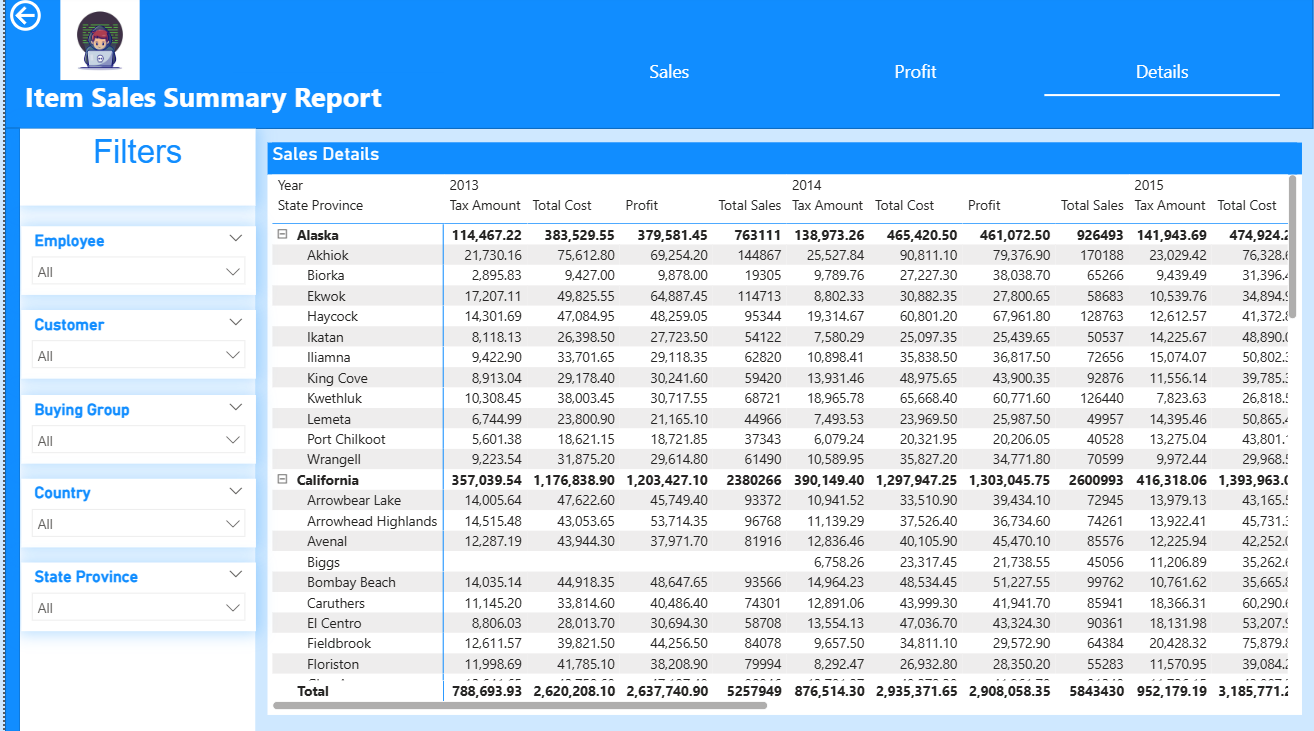

This screenshot's page, from the dashboard's own definition file:
{"tool":"powerbi","page":{"name":"Details","canvas":[1280,720],"ordinal":2},"visuals":[{"type":"shape","box":[0,0,1280,131],"z":0},{"type":"shape","box":[0,129.3,15.1,591.3],"z":1000},{"type":"shape","box":[15.1,131,230.1,589.6],"z":2000},{"type":"textbox","title":"dsadsad","box":[15.1,131,230.1,75.6],"z":3000},{"type":"textbox","box":[15.1,75.6,414.9,53.8],"z":4000},{"type":"pivotTable","title":"Sales Details","fields":{"Values":["Sum(FactSale.Tax Amount)","FactSale.Cost","Sum(FactSale.Profit)","Sum(FactSale.Total Excluding Tax)"],"Columns":["DimDate.Date.Variation.Date Hierarchy.Year","DimDate.Date.Variation.Date Hierarchy.Quarter","DimDate.Date.Variation.Date Hierarchy.Month","DimDate.Date.Variation.Date Hierarchy.Day"],"Rows":["DimCity.State Province","DimCity.City"]},"box":[256.3,144,1012.3,560.2],"z":6000},{"type":"slicer","fields":{"Values":["DimEmployee.Employee"]},"box":[15.5,226,229.4,67.3],"z":7000},{"type":"slicer","fields":{"Values":["DimCustomer.Customer"]},"box":[15.5,308.4,229.4,67.3],"z":8000},{"type":"slicer","fields":{"Values":["DimCustomer.Buying Group"]},"box":[15.5,390.7,229.4,67.3],"z":9000},{"type":"slicer","fields":{"Values":["DimCity.Country"]},"box":[15.5,473.1,229.4,67.3],"z":10000},{"type":"slicer","fields":{"Values":["DimCity.State Province"]},"box":[15.5,555.5,229.4,67.3],"z":11000},{"type":"actionButton","box":[0,0,100,40],"z":12000},{"type":"pageNavigator","box":[534.2,49,714.2,50.4],"z":13000},{"type":"image","box":[29.3,0,127.2,88],"z":13001}]}

Visuals, with their boxes on the page's 1280x720 design canvas (x1, y1, x2, y2). These are canvas units, not pixel positions in the 1314x731 screenshot, which may show the page scaled, cropped or inside an application window:
shape: left=0, top=0, right=1280, bottom=131
shape: left=0, top=129, right=15, bottom=721
shape: left=15, top=131, right=245, bottom=721
"dsadsad" textbox: left=15, top=131, right=245, bottom=207
textbox: left=15, top=76, right=430, bottom=129
"Sales Details" pivotTable: left=256, top=144, right=1269, bottom=704
slicer - DimEmployee.Employee: left=16, top=226, right=245, bottom=293
slicer - DimCustomer.Customer: left=16, top=308, right=245, bottom=376
slicer - DimCustomer.Buying Group: left=16, top=391, right=245, bottom=458
slicer - DimCity.Country: left=16, top=473, right=245, bottom=540
slicer - DimCity.State Province: left=16, top=556, right=245, bottom=623
actionButton: left=0, top=0, right=100, bottom=40
pageNavigator: left=534, top=49, right=1248, bottom=99
image: left=29, top=0, right=156, bottom=88
